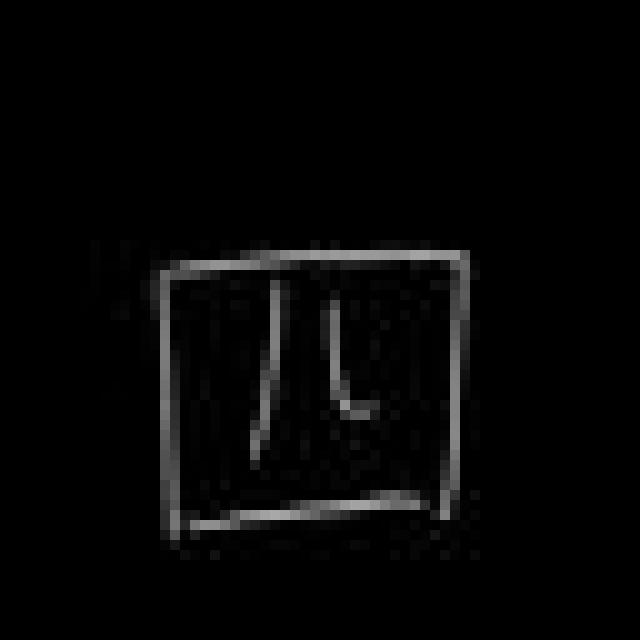4 -four-: (133, 237, 483, 547)
